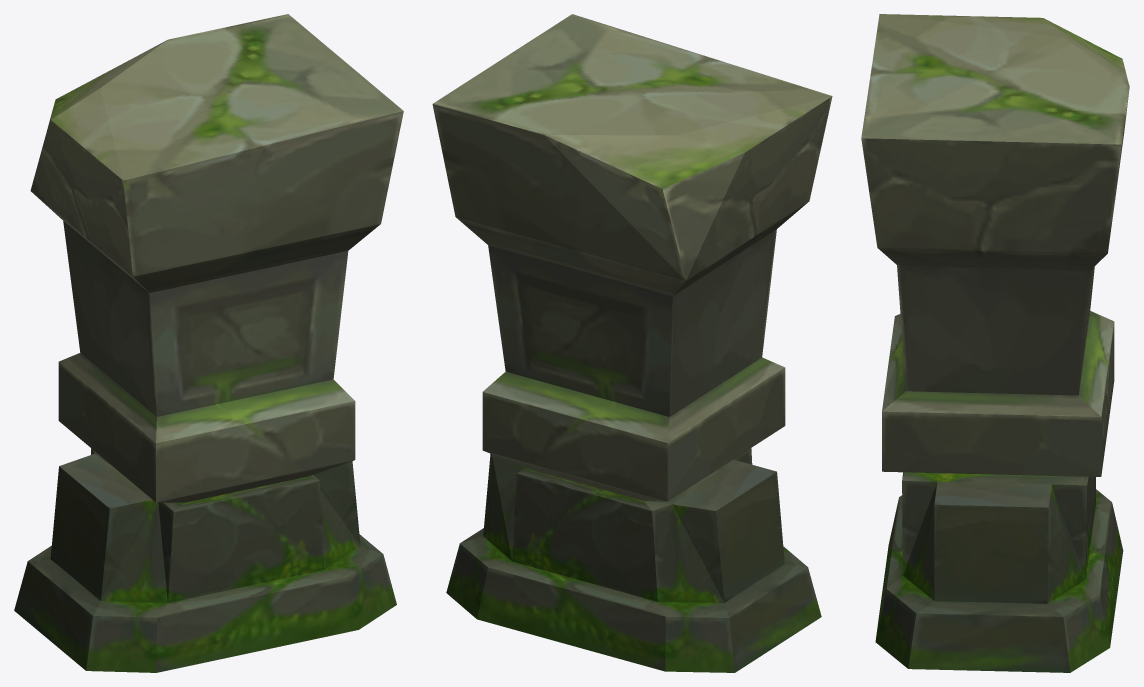
The model's file is fb_lyhg_zj_01_j.FBX.
The picture shows the model from 3 angles, left to right: view 1: azimuth 30°, elevation 25°; view 2: azimuth 150°, elevation 25°; view 3: azimuth 270°, elevation 25°; orthographic projection. The views are drawn at different scales.
Parts seen in each view (by area): view 1: Object004; view 2: Object004; view 3: Object004.
Boxes of the visible parts, <box> form: Object004: <box>14,14,403,672</box>; Object004: <box>432,14,832,672</box>; Object004: <box>861,14,1129,672</box>.
Bounding box in the file's own units: 495 × 789 × 367.
